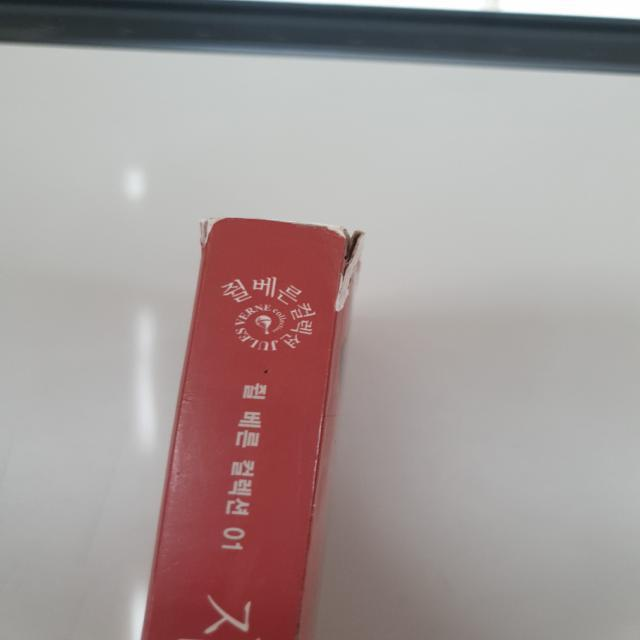Ripped: (309, 221, 369, 316), (193, 214, 236, 256)
